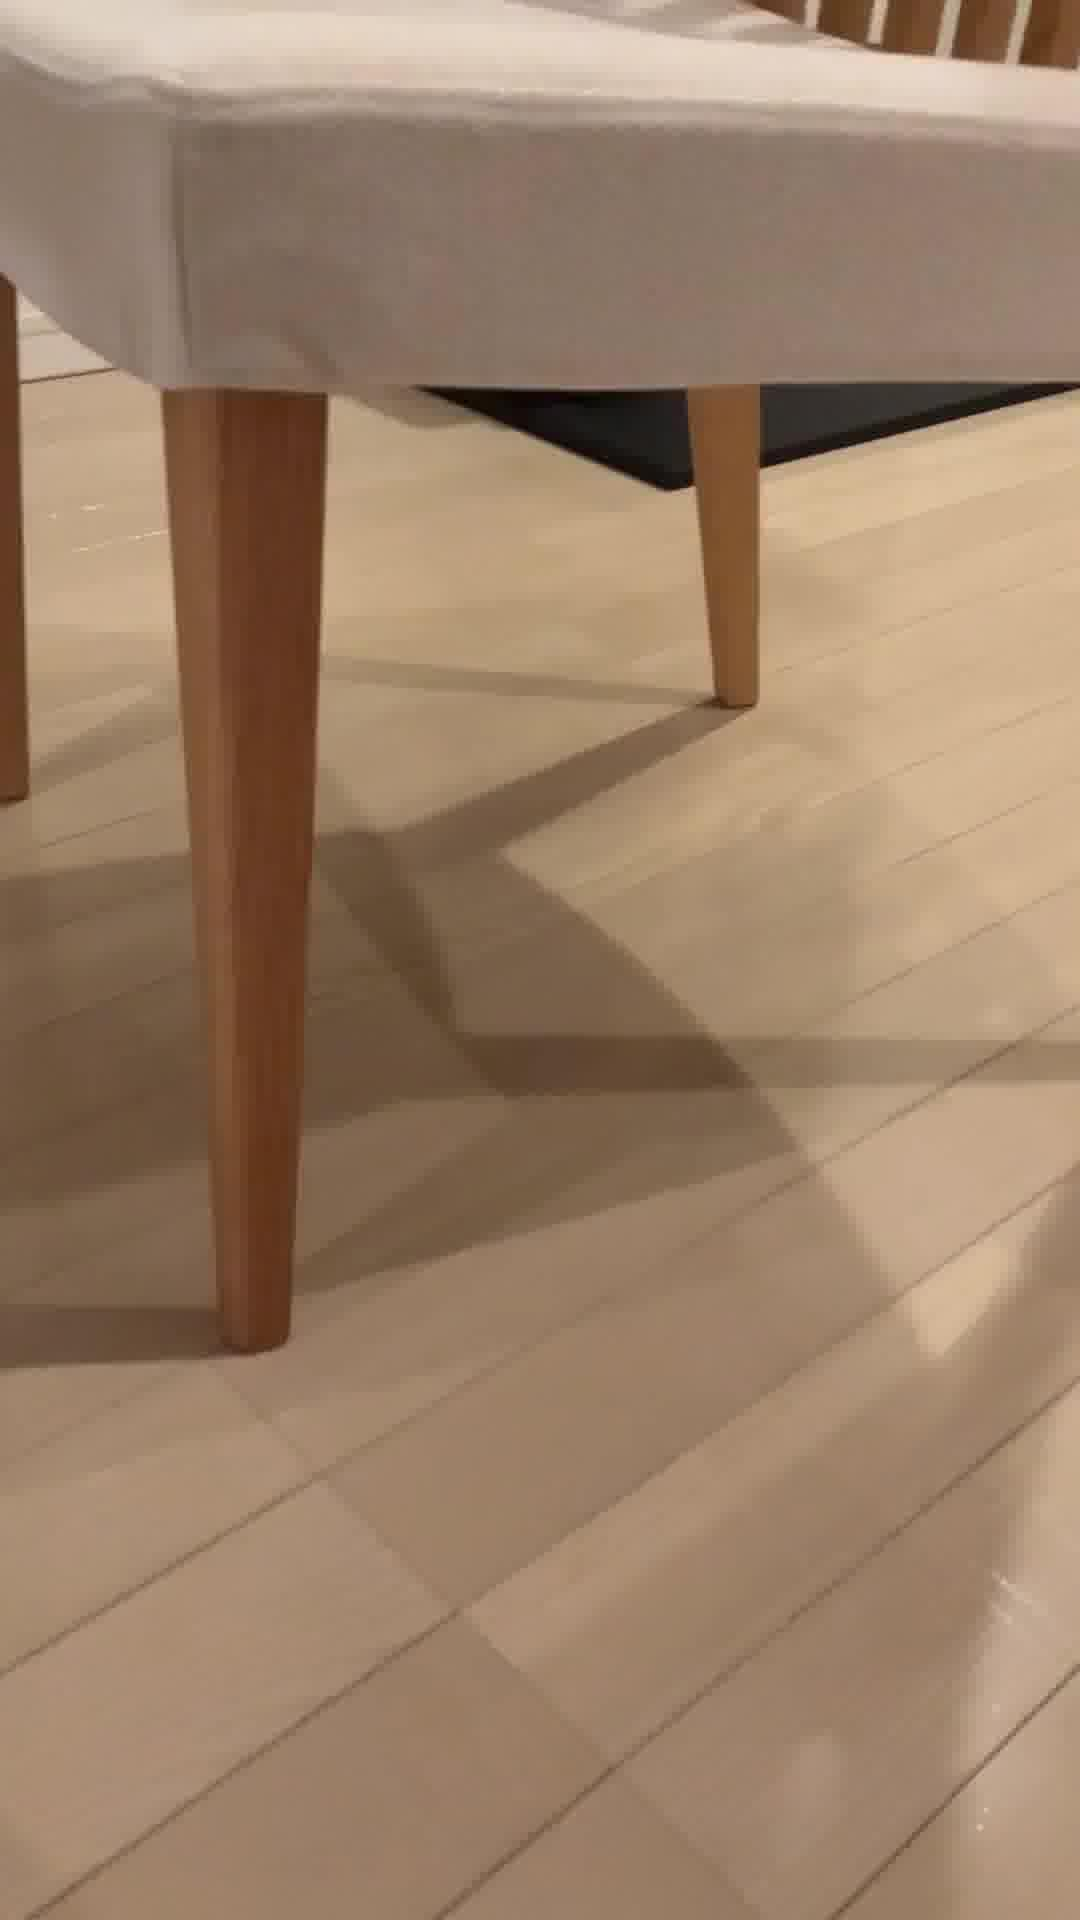takumikan-chair: (0, 0, 1080, 1352)
